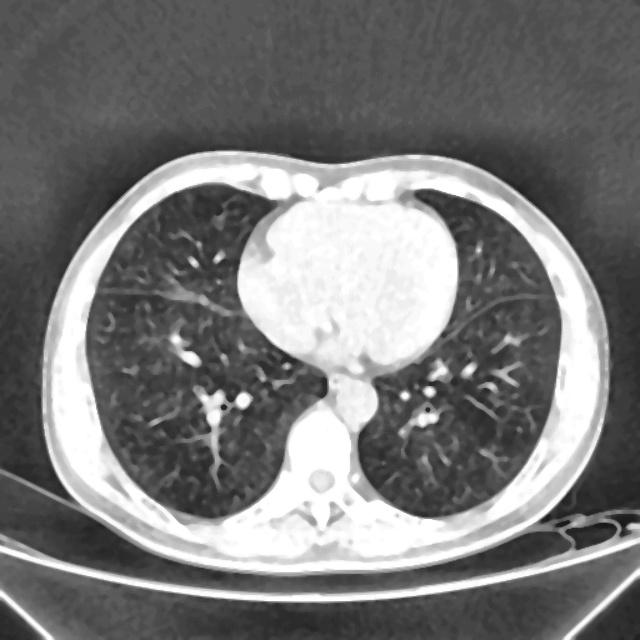covid: (41, 148, 611, 573)
